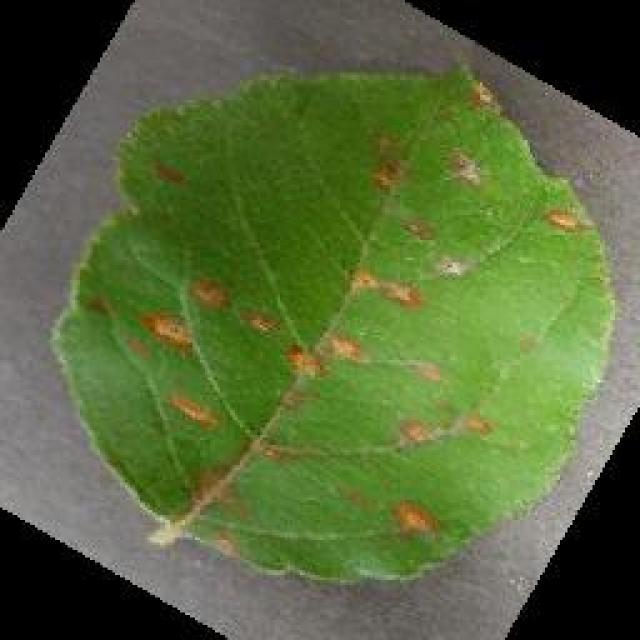apple scab disease: (48, 60, 618, 585)
